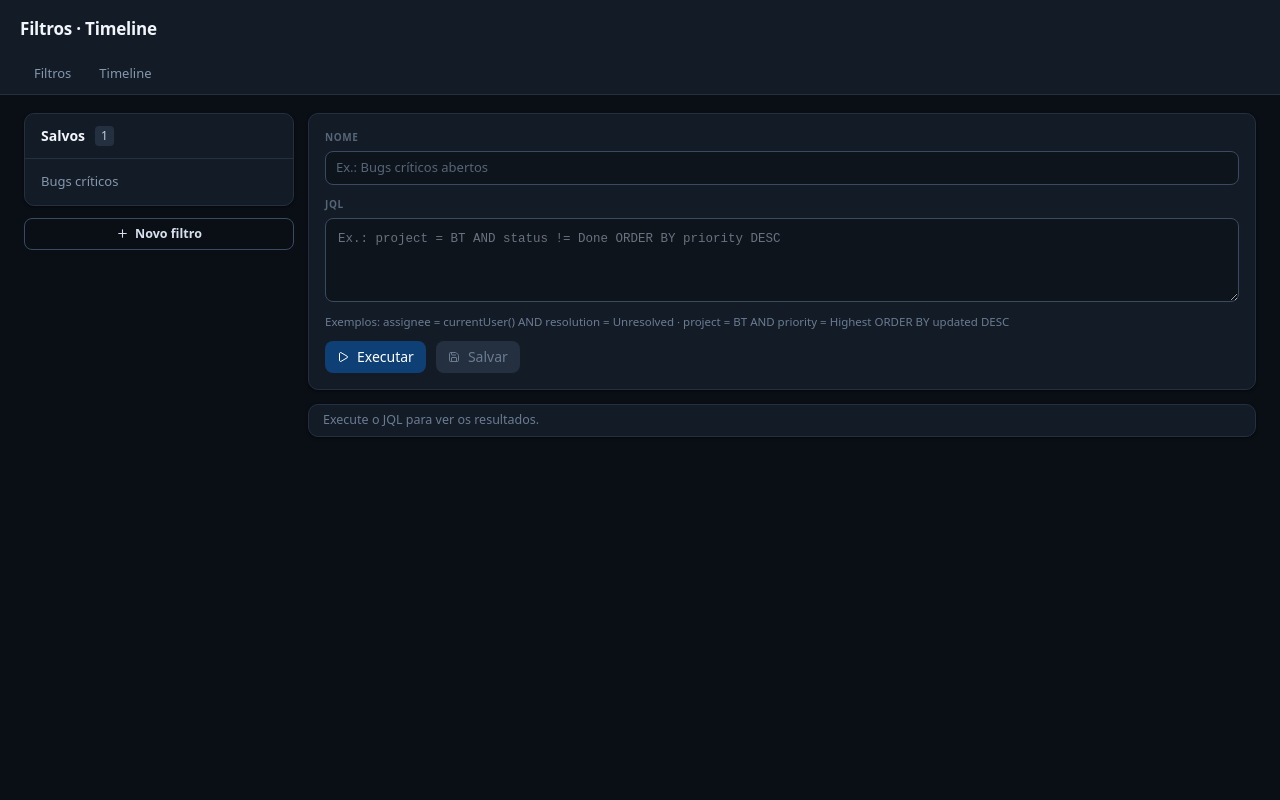
Filters › mostra dica de truncamento quando o resultado é maior que o limite
Expected: the button "Bugs críticos" is shown, left=41, top=172, right=277, bottom=192
In the text box: (782, 260) left=325, top=218, right=1239, bottom=302, type "project = BT"
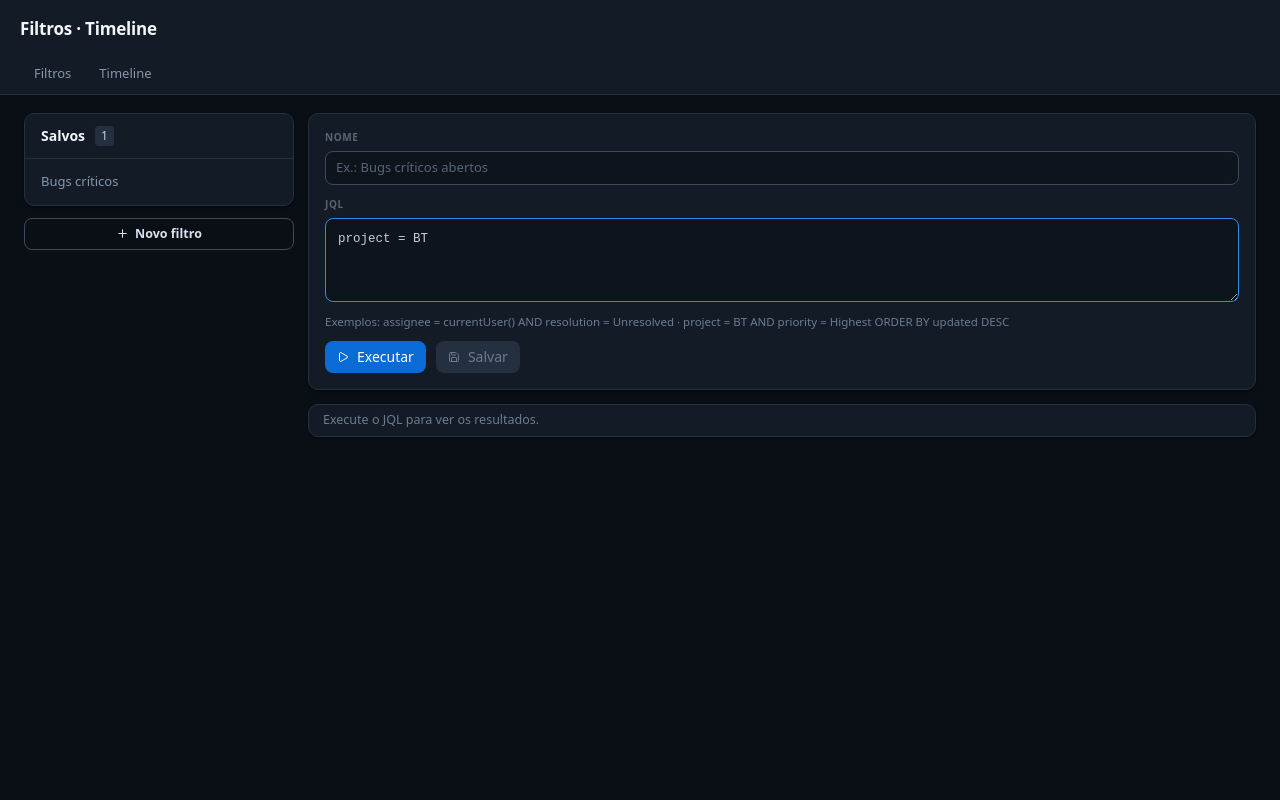
Click the button "Executar": (375, 357) left=325, top=341, right=426, bottom=373
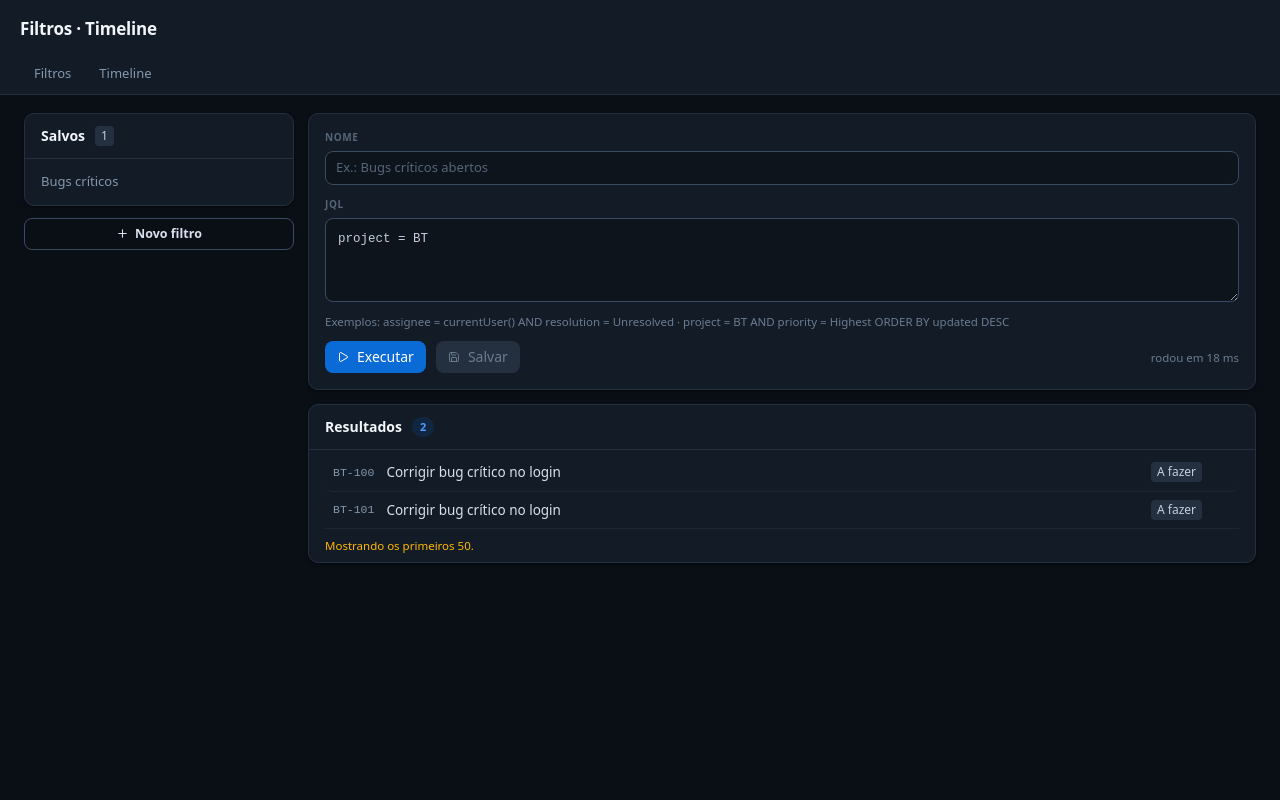
Now the text "2" is shown, box left=412, top=418, right=434, bottom=437
Now the text "Mostrando os primeiros 50." is shown, box left=325, top=528, right=1239, bottom=558
